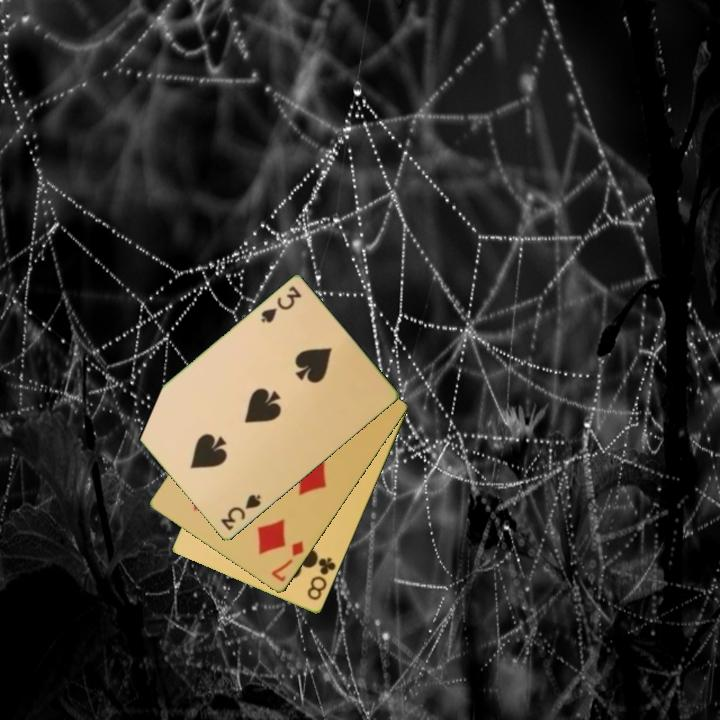3s: (217, 491, 264, 534), (257, 283, 304, 326)
7d: (268, 537, 307, 585)
8c: (304, 554, 339, 604)
